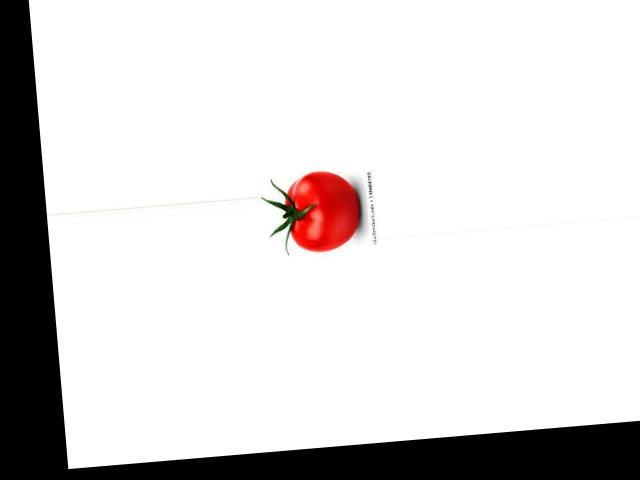tomato: (283, 168, 361, 253)
